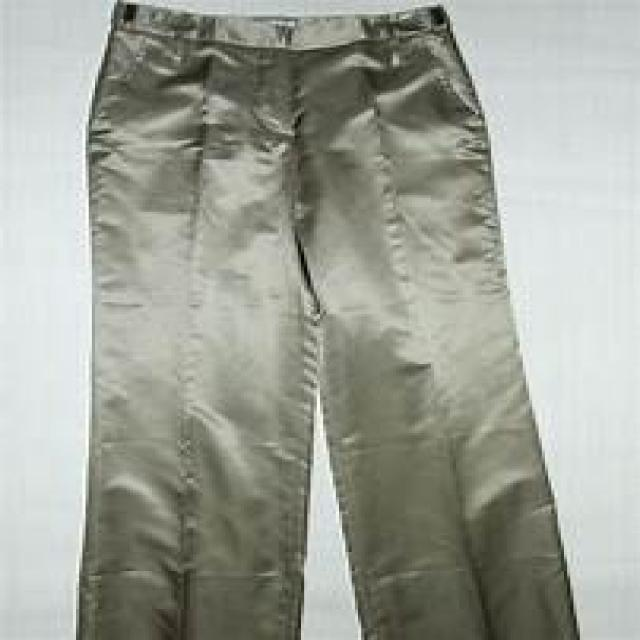long-pants: (71, 0, 585, 640)
